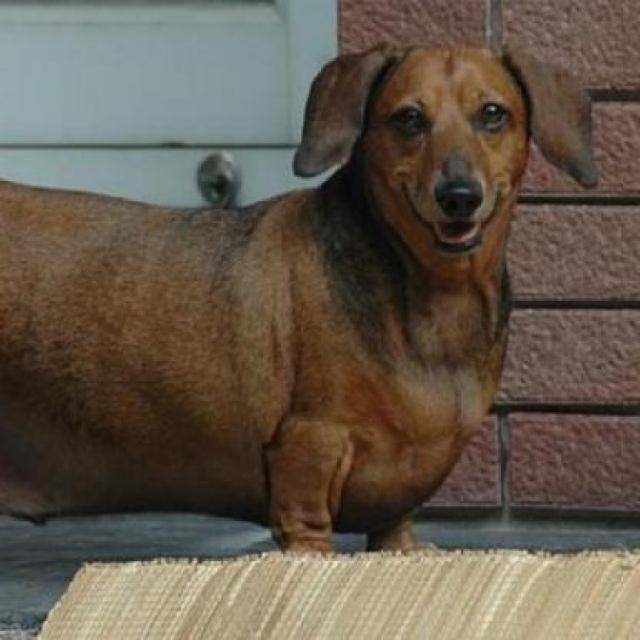Dog: (0, 42, 605, 560)
